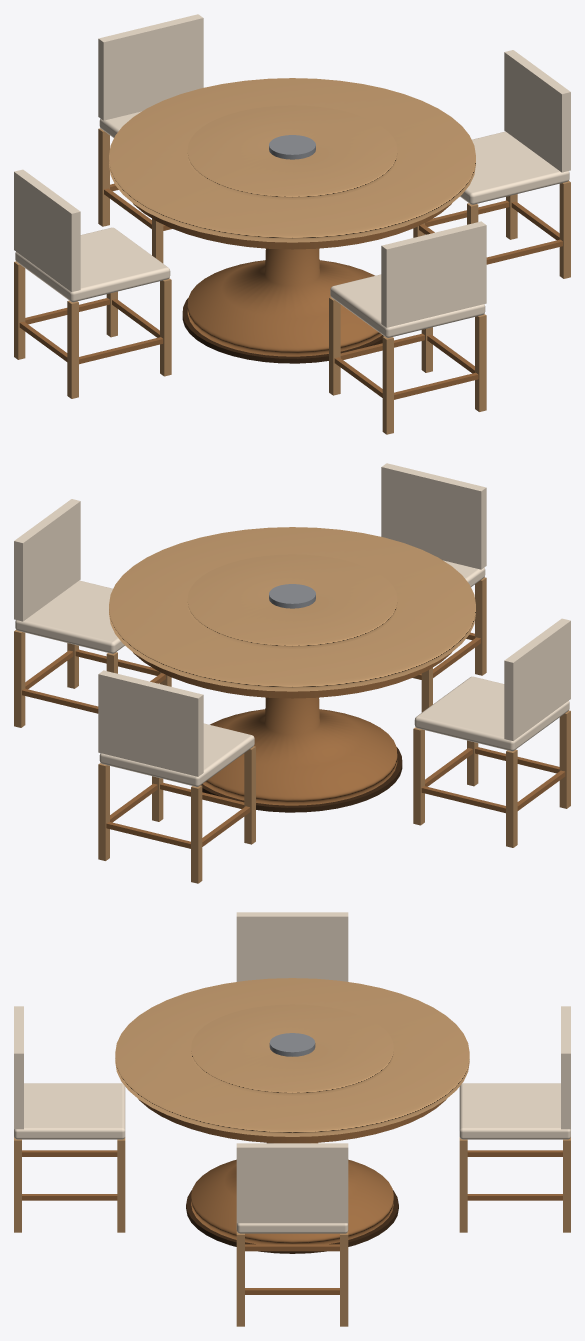
The model's file is rounddiningtable_turntable.glb.
The picture shows the model from 3 angles, top to bottom: view 1: azimuth 30°, elevation 25°; view 2: azimuth 150°, elevation 25°; view 3: azimuth 270°, elevation 25°; orthographic projection. The views are drawn at different scales.
Visible parts, largest first — view 1: material-0-top, material-5-cushion, material-2-body, material-4-leg, material-3-trim, material-1-base, material-6-metal; view 2: material-0-top, material-5-cushion, material-2-body, material-4-leg, material-3-trim, material-1-base, material-6-metal; view 3: material-0-top, material-5-cushion, material-2-body, material-3-trim, material-4-leg, material-1-base, material-6-metal.
Boxes of the visible parts, box(x1,y1,x2,y2) form: material-0-top: box(109, 78, 475, 242); material-5-cushion: box(14, 14, 570, 337); material-2-body: box(187, 248, 381, 356); material-4-leg: box(14, 128, 570, 434); material-3-trim: box(19, 183, 562, 399); material-1-base: box(182, 298, 383, 363); material-6-metal: box(269, 135, 315, 159); material-0-top: box(109, 527, 475, 691); material-5-cushion: box(14, 463, 570, 786); material-2-body: box(203, 697, 397, 805); material-4-leg: box(14, 577, 570, 883); material-3-trim: box(22, 632, 565, 848); material-1-base: box(201, 747, 402, 812); material-6-metal: box(269, 584, 315, 608); material-0-top: box(115, 978, 469, 1136); material-5-cushion: box(14, 912, 570, 1233); material-2-body: box(191, 1142, 393, 1244); material-3-trim: box(22, 1099, 562, 1294); material-4-leg: box(14, 1137, 570, 1326); material-1-base: box(186, 1190, 398, 1253); material-6-metal: box(269, 1033, 315, 1056).
Bounding box in the file's own units: 2.2 × 0.78 × 2.2.
